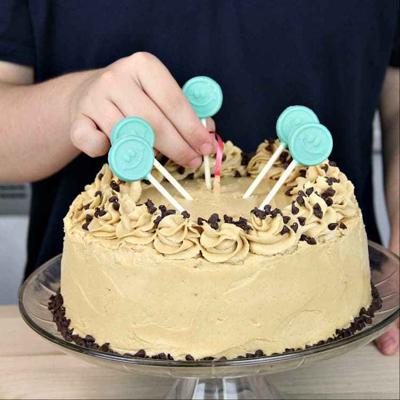cake: (57, 142, 372, 361)
